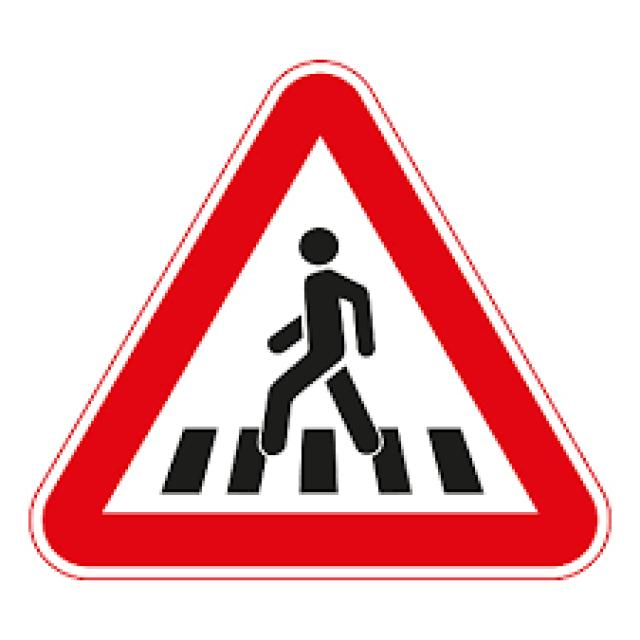PEDESTRIAN_CROSSING: (34, 56, 612, 583)
